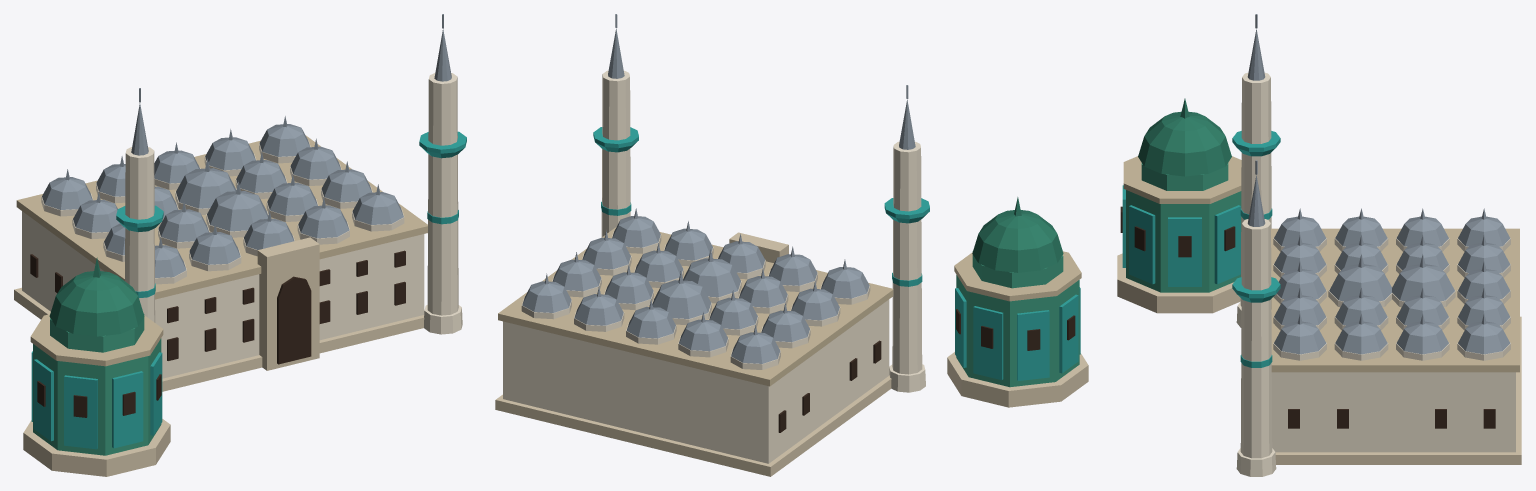
File: bursa.glb
3 renders of one model, left to right at view 1: azimuth 30°, elevation 25°; view 2: azimuth 150°, elevation 25°; view 3: azimuth 270°, elevation 25°, orthographic. The views are drawn at different scales.
Visible parts, largest first — view 1: ulu_cami, yesil_turbe; view 2: ulu_cami, yesil_turbe; view 3: ulu_cami, yesil_turbe.
Boxes of the visible parts, <box> form: ulu_cami: <box>14,14,466,391</box>; yesil_turbe: <box>23,257,170,476</box>; ulu_cami: <box>495,14,929,476</box>; yesil_turbe: <box>947,197,1088,407</box>; ulu_cami: <box>1232,14,1521,476</box>; yesil_turbe: <box>1117,98,1241,313</box>.
Size of the model in its own units: 14.01 by 9.04 by 10.75.
